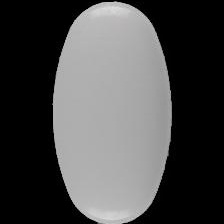76413-135: (0, 0, 224, 224)
